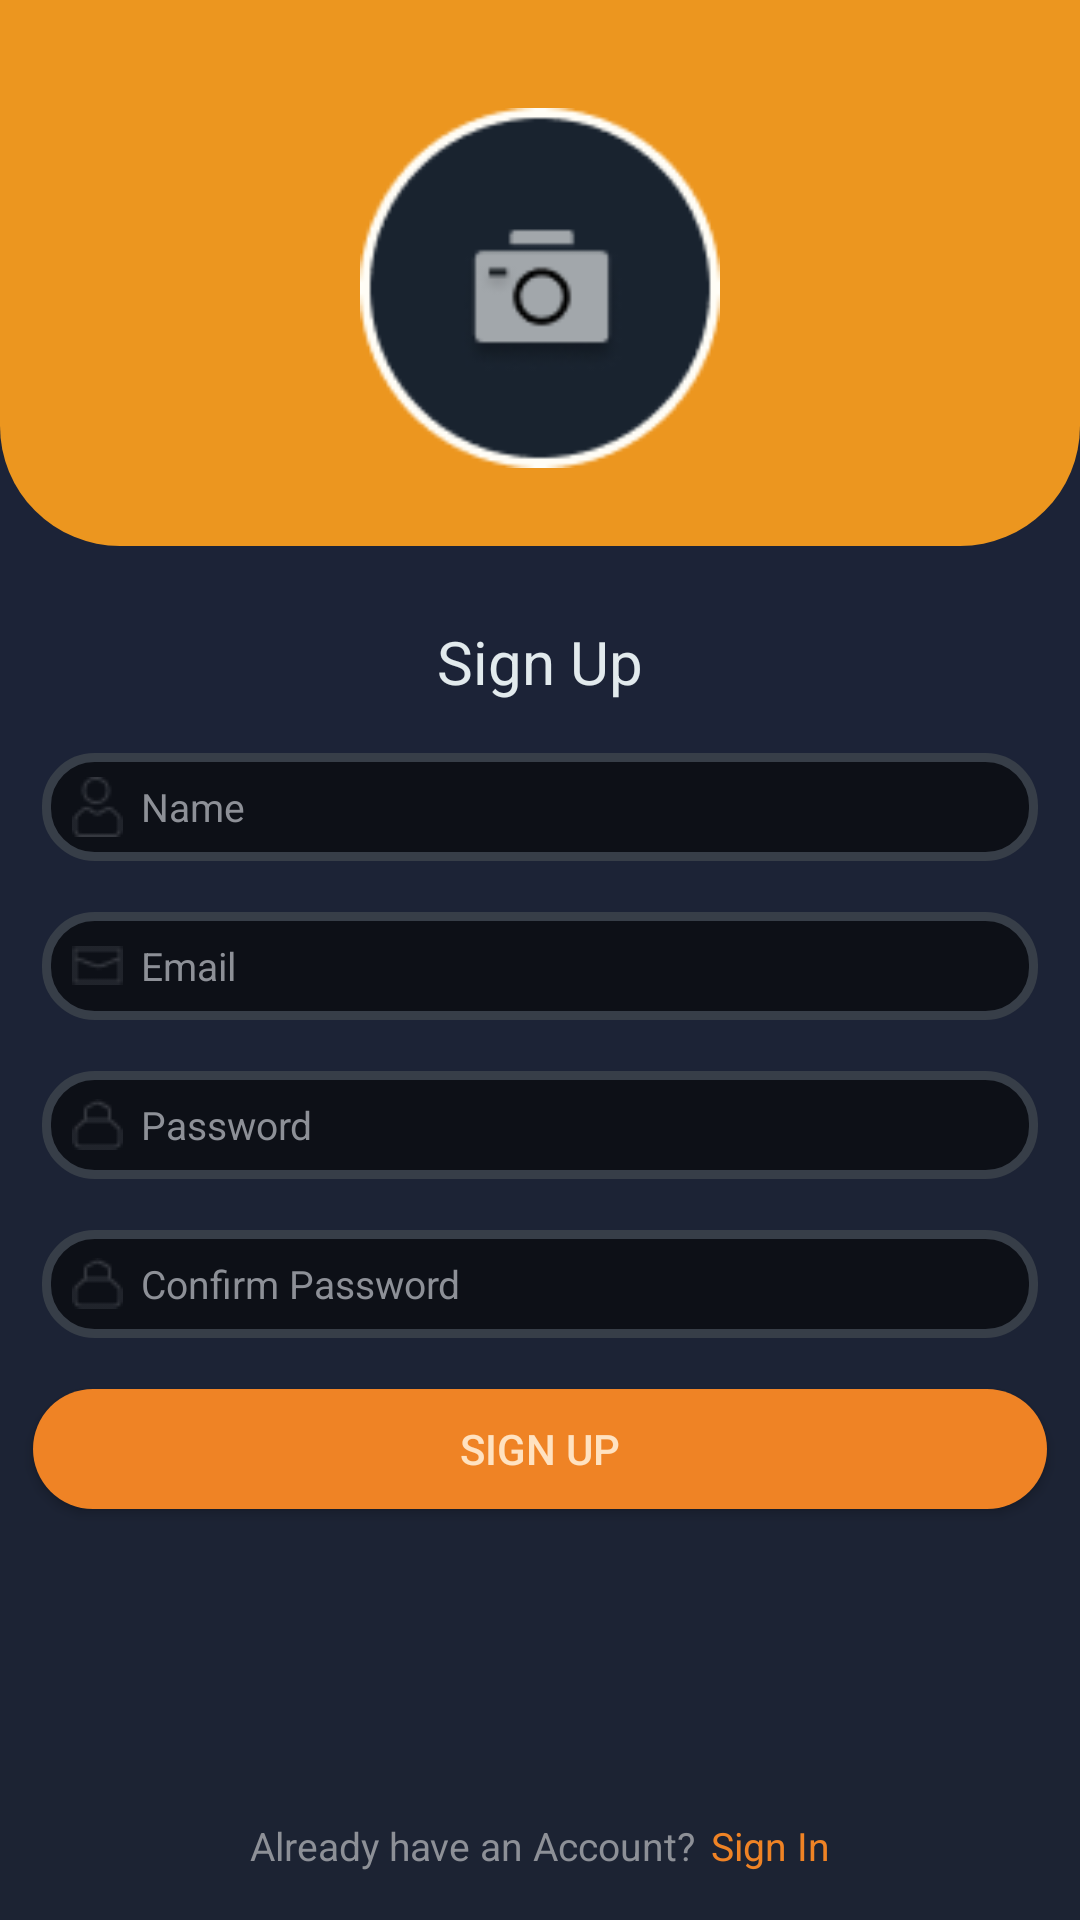

Icons on this 1080x1920 Android screen, each with its box as (x1,y1,x2,y2):
user photo: (360,108,720,468)
